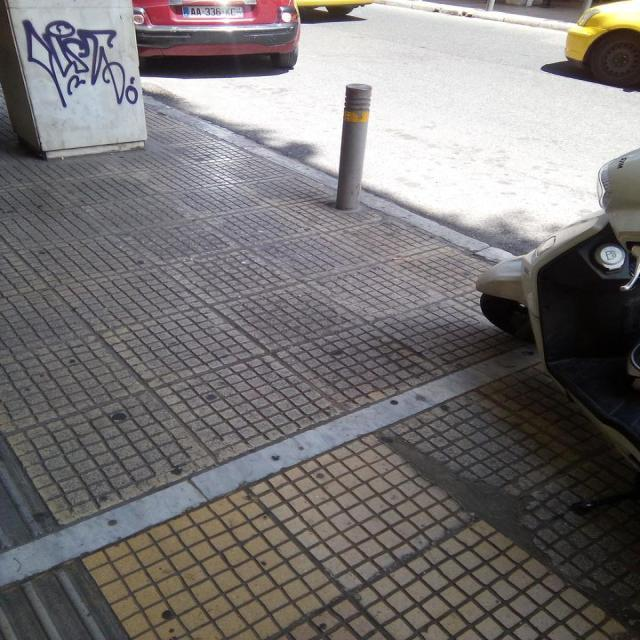nonspitting: (24, 19, 138, 108)
